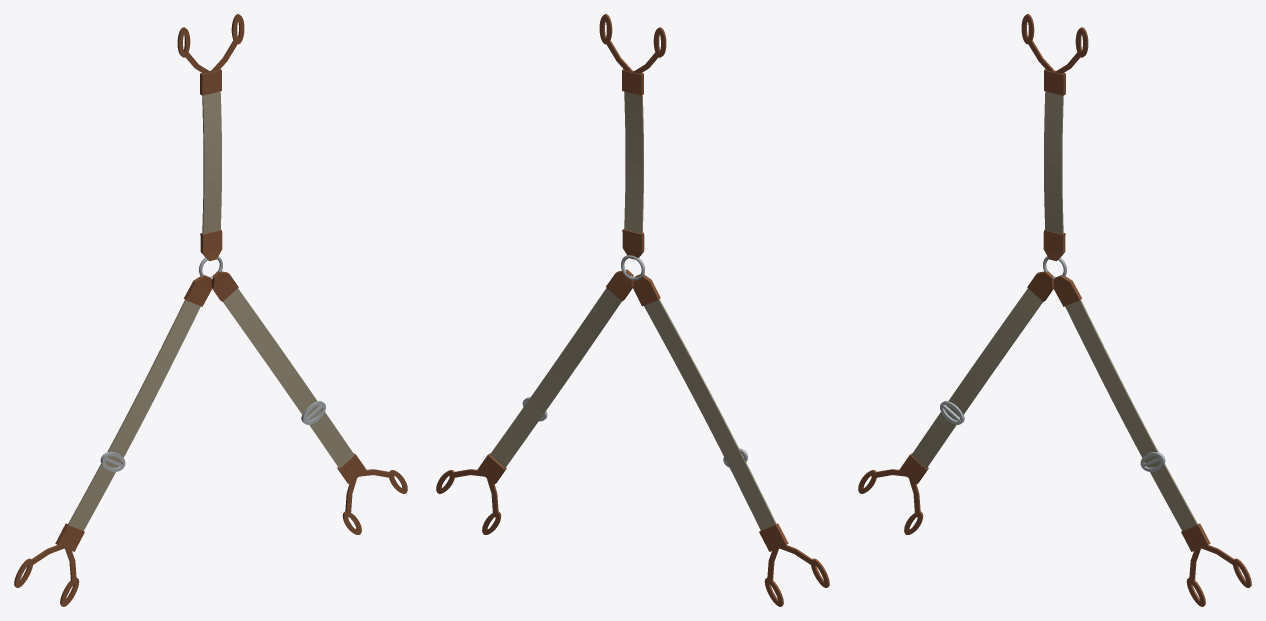
3 renders of one model, left to right at view 1: azimuth 30°, elevation 25°; view 2: azimuth 150°, elevation 25°; view 3: azimuth 330°, elevation 25°, orthographic.
Parts seen in each view (by area): view 1: Left_Shoulder_Webbing, Right_Shoulder_Webbing, Rear_Webbing, Left_Junction_Leather_Seat, Rear_Junction_Leather_Seat, Right_Junction_Leather_Seat; view 2: Left_Shoulder_Webbing, Right_Shoulder_Webbing, Rear_Webbing, Left_Junction_Leather_Seat, Right_Junction_Leather_Seat, Rear_Junction_Leather_Seat; view 3: Right_Shoulder_Webbing, Left_Shoulder_Webbing, Rear_Webbing, Right_Junction_Leather_Seat, Rear_Junction_Leather_Seat, Left_Junction_Leather_Seat.
Part boxes in pixels (x1,y1,x2,y2): Left_Shoulder_Webbing: (68,299,200,530); Right_Shoulder_Webbing: (223,288,354,468); Rear_Webbing: (202,91,221,234); Left_Junction_Leather_Seat: (184,275,211,306); Rear_Junction_Leather_Seat: (200,230,222,261); Right_Junction_Leather_Seat: (211,271,238,301); Left_Shoulder_Webbing: (644,299,776,530); Right_Shoulder_Webbing: (490,288,621,467); Rear_Webbing: (624,91,643,233); Left_Junction_Leather_Seat: (633,274,660,306); Right_Junction_Leather_Seat: (606,269,633,301); Rear_Junction_Leather_Seat: (622,229,644,259); Right_Shoulder_Webbing: (1065,299,1197,530); Left_Shoulder_Webbing: (911,288,1042,468); Rear_Webbing: (1044,91,1063,234); Right_Junction_Leather_Seat: (1054,275,1081,306); Rear_Junction_Leather_Seat: (1043,230,1065,261); Left_Junction_Leather_Seat: (1027,271,1054,301).
Bounding box in the file's own units: 75.3 × 1.6 × 101.
